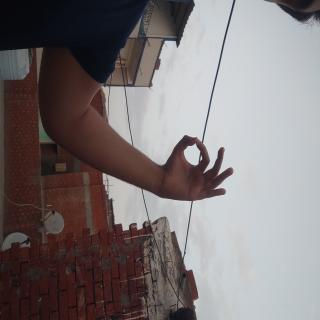Space: (97, 114, 153, 233)
